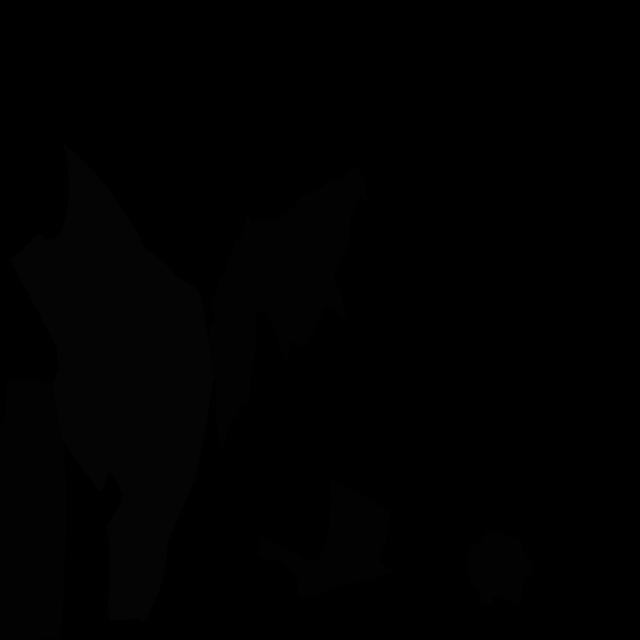cardboard: (208, 167, 367, 451), (0, 380, 67, 640), (258, 479, 394, 599), (468, 529, 533, 606)
soft_plastic: (10, 143, 214, 623), (52, 348, 135, 492)
